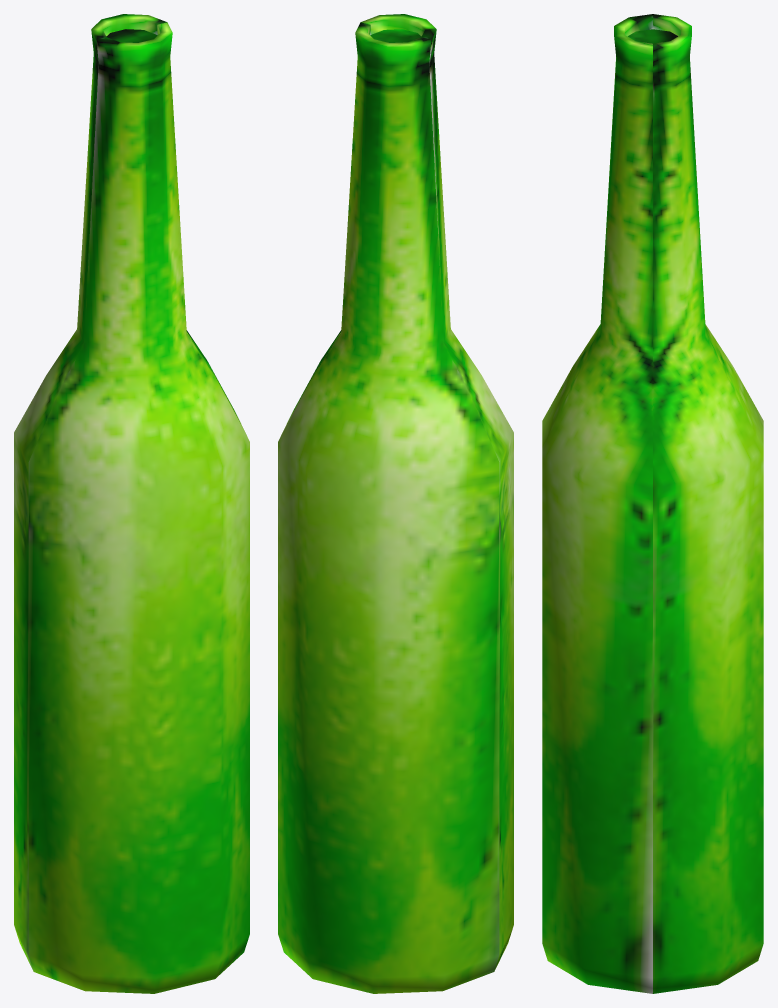
The model's file is beer_bottle_2.FBX.
The picture shows the model from 3 angles, left to right: view 1: azimuth 30°, elevation 25°; view 2: azimuth 150°, elevation 25°; view 3: azimuth 270°, elevation 25°; orthographic projection.
Parts seen in each view (by area): view 1: beer_bottle; view 2: beer_bottle; view 3: beer_bottle.
Boxes of the visible parts, bbox=[...] form: beer_bottle: bbox=[14, 14, 249, 993]; beer_bottle: bbox=[278, 14, 513, 993]; beer_bottle: bbox=[542, 14, 763, 993].
Bounding box in the file's own units: 3.26 × 13.91 × 3.03.
